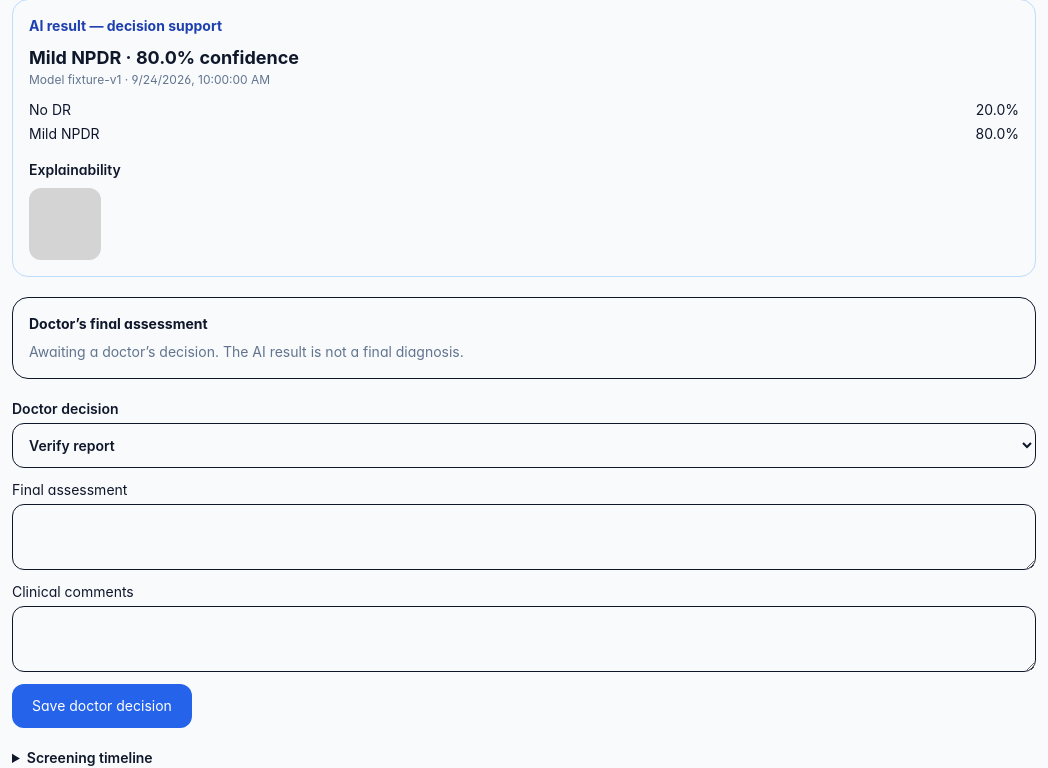
Test: clinical review UI › requires a reason and comments for additional analysis
(page scrolled)
Check: the heading "Doctor’s final assessment" is shown, box [29,315,208,332]
Select "Needs additional analysis" in the dropdown labelled "Doctor decision" at (524, 446), box [12,423,1036,468]
(page scrolled)
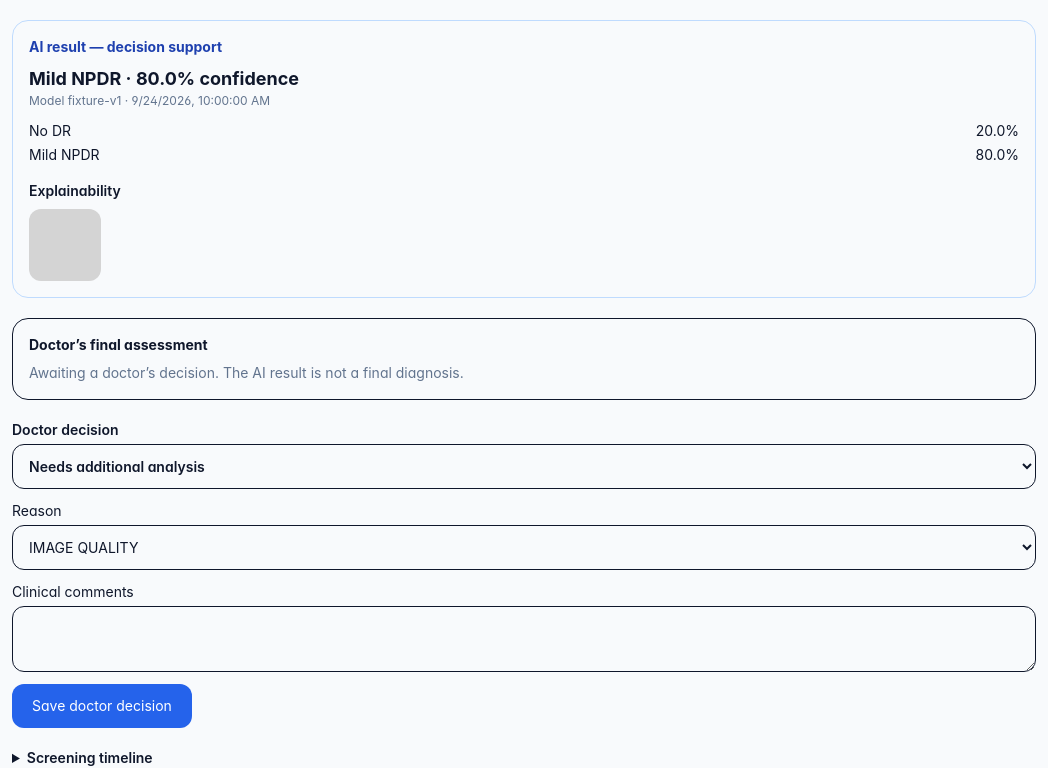
Check: the dropdown labelled "Reason" is shown, box [12,525,1036,570]
